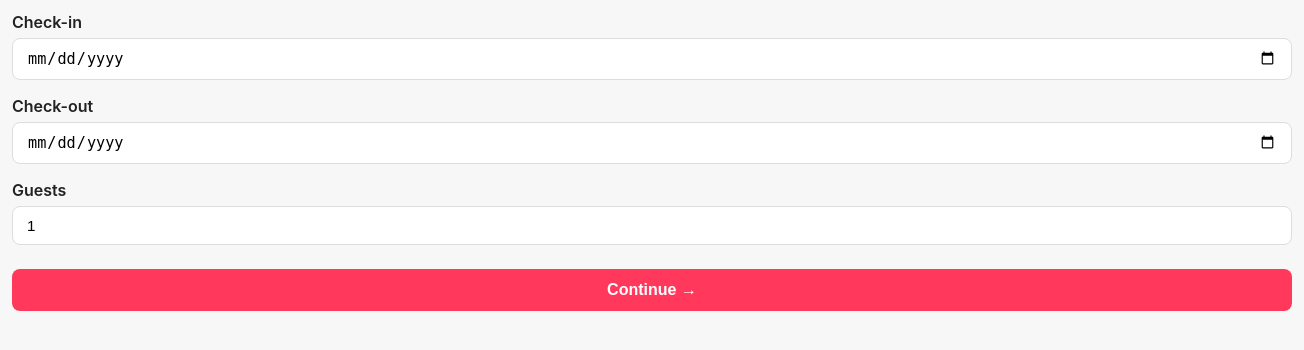
BookingForm — StepDates Validation › shows error when check-out is before check-in
The width and height of the screenshot is (1304, 350).
# Set check-out before check-in — triggers refine validation
Type "2025-03-10" into the date field labelled "Check-in" at [652, 59], box [12, 38, 1292, 80]
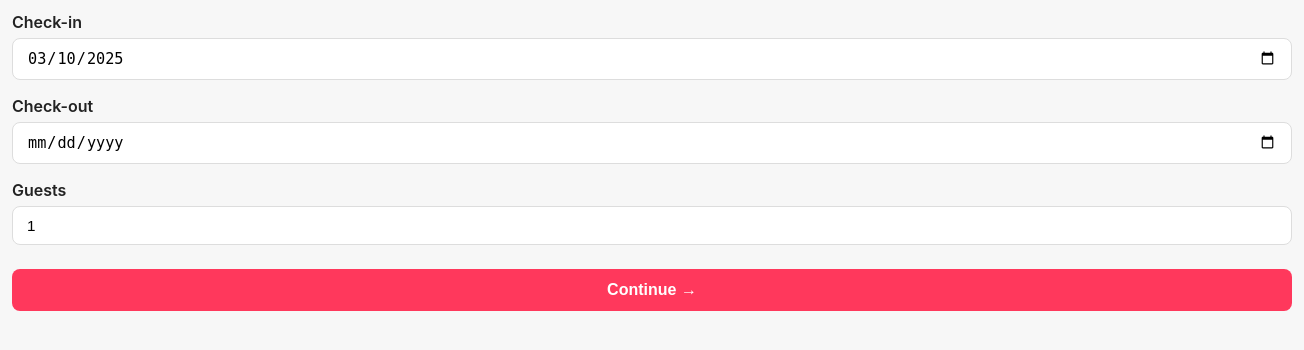
Type "2025-03-05" into the date field labelled "Check-out" at [652, 143], box [12, 122, 1292, 164]
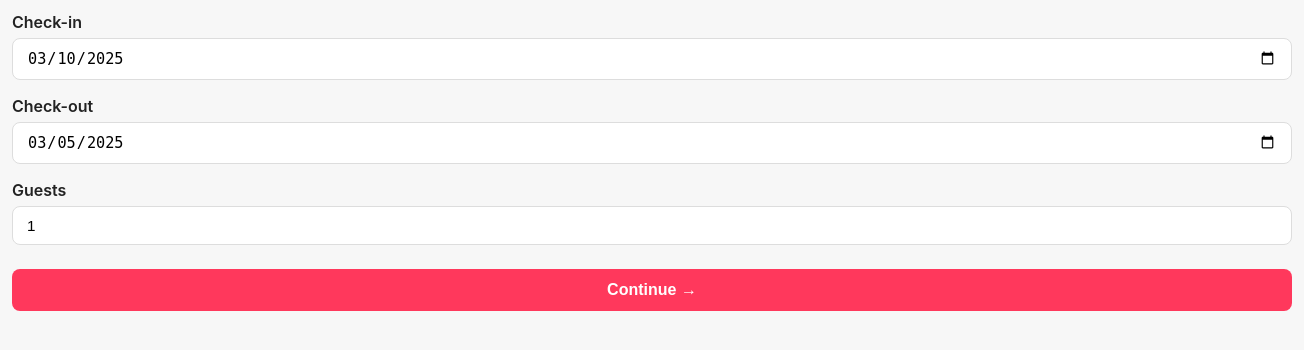
Replace the text in the number field labelled "Guests" with "2" at [652, 226], box [12, 206, 1292, 245]
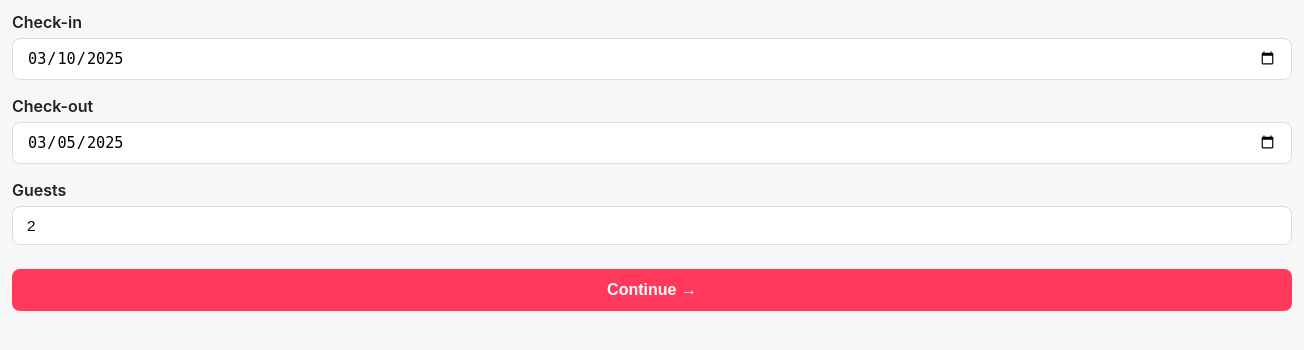
Click the button "Continue →" at [652, 290], box [12, 269, 1292, 311]
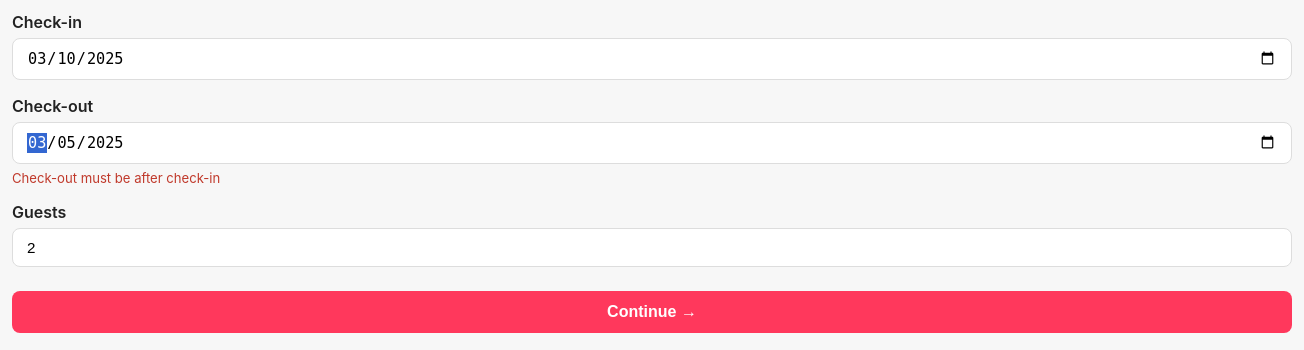
Now the text "Check-out must be after check-in" is shown, box [12, 170, 220, 186]
